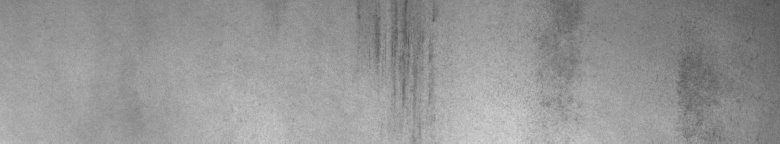ka: (357, 4, 440, 104)
